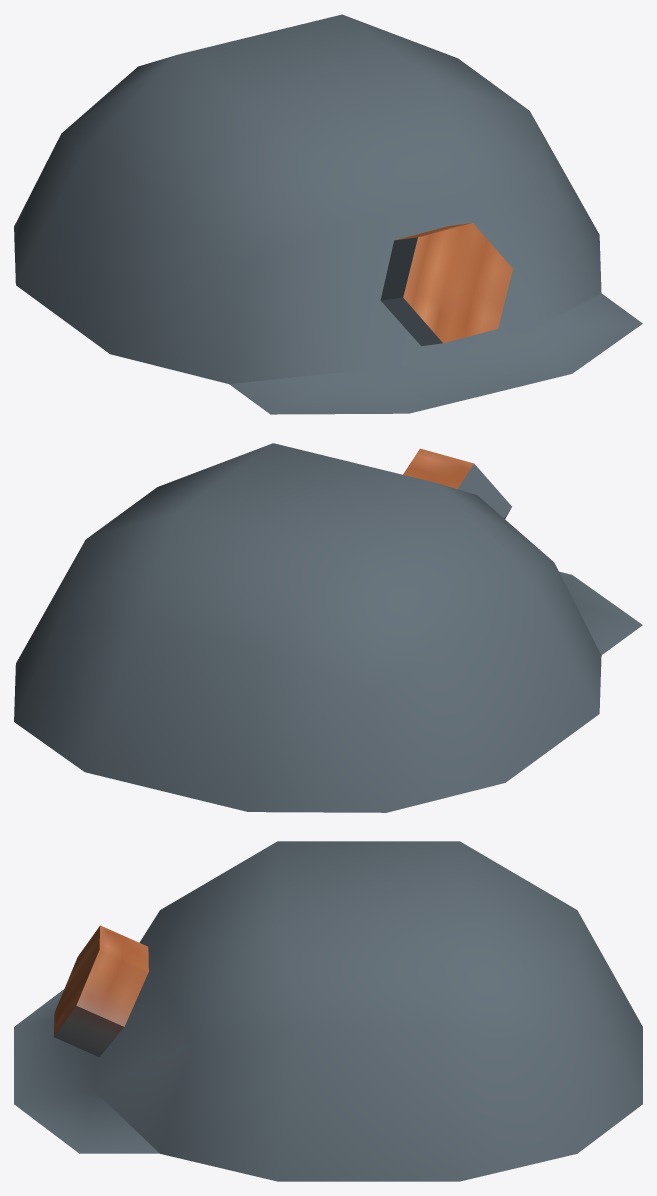
Rendered from kaska.fbx.
3 views of the same model, one above another, from view 1: azimuth 30°, elevation 25°; view 2: azimuth 150°, elevation 25°; view 3: azimuth 270°, elevation 25° (orthographic). The views are drawn at different scales.
Visible parts, largest first — view 1: hat; view 2: hat; view 3: hat.
Boxes of the visible parts, x1=… form: hat: x1=14, y1=14, x2=642, y2=414; hat: x1=14, y1=443, x2=642, y2=812; hat: x1=14, y1=841, x2=642, y2=1181.
Bounding box in the file's own units: 2.21 × 0.8232 × 2.53.
